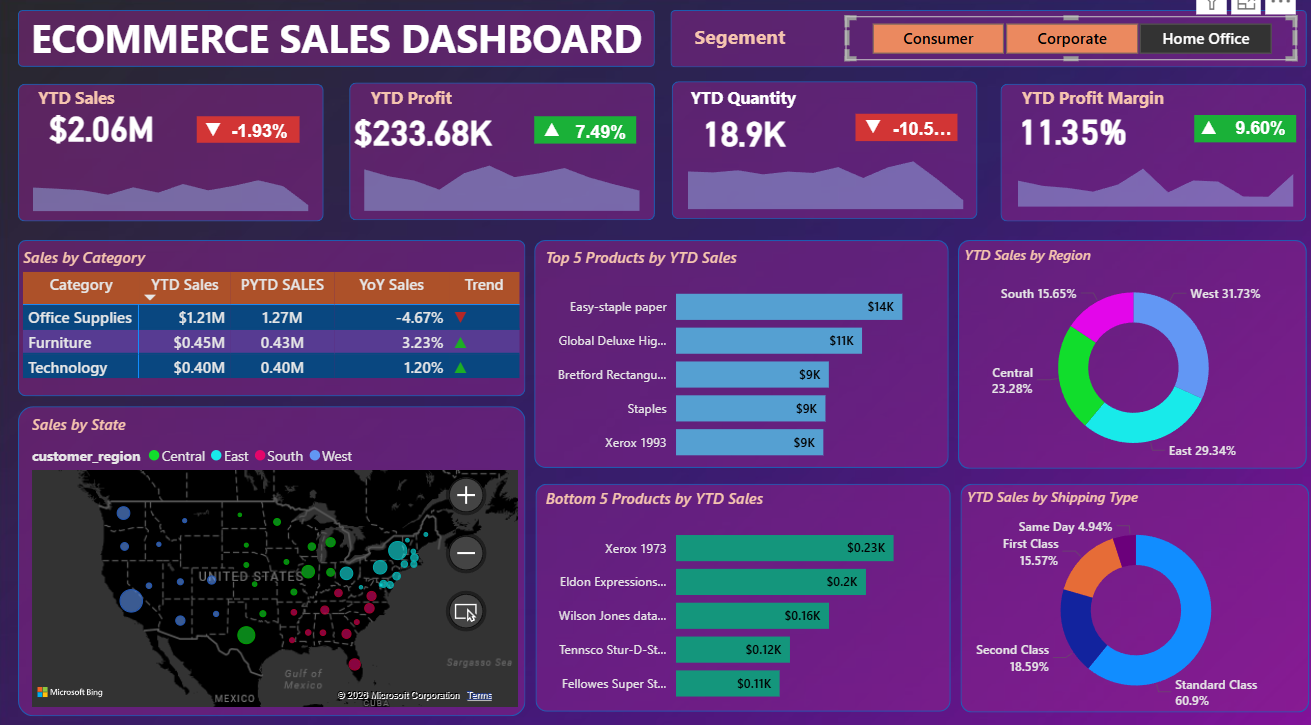

This screenshot's page, from the dashboard's own definition file:
{"tool":"powerbi","page":{"name":"Page 1","canvas":[1280,720],"ordinal":0},"visuals":[{"type":"shape","box":[24.7,19.2,614.8,54.9],"z":0},{"type":"textbox","box":[24.7,15.1,614.8,64.5],"z":1000},{"type":"shape","box":[24.7,90.6,295,133],"z":2000},{"type":"card","fields":{"Values":["ecommerce_data.YTD SALES"]},"box":[35.7,105.7,137.2,52.1],"z":3000},{"type":"areaChart","fields":{"Category":["Calendar.Month"],"Y":["Sum(ecommerce_data.sales_per_order)"]},"box":[24.7,156.4,295,61.7],"z":4000},{"type":"shape","box":[196.6,121.9,98.9,25.3],"z":5000},{"type":"card","fields":{"Values":["ecommerce_data.YoY Sales"]},"box":[223.7,120.8,68.6,32.9],"z":6000},{"type":"card","fields":{"Values":["ecommerce_data.Sales Icon"]},"box":[194.9,122.1,34.3,26.1],"z":7000},{"type":"textbox","box":[38.4,87.8,105.7,38.4],"z":8000},{"type":"shape","box":[344.4,89.2,295,133.1],"z":9000},{"type":"shape","box":[522.8,122.1,98.8,26.1],"z":10000},{"type":"card","fields":{"Values":["ecommerce_data.YTD PROFIT"]},"box":[331.8,109.8,166.5,51.9],"z":11000},{"type":"areaChart","fields":{"Category":["Calendar.Month"],"Y":["Sum(ecommerce_data.profit_per_order)"]},"box":[344.4,148.2,295,70],"z":12000},{"type":"card","fields":{"Values":["ecommerce_data.YoY Profit"]},"box":[553,122.1,68.6,32.9],"z":13000},{"type":"card","fields":{"Values":["ecommerce_data.Profit Icon"]},"box":[522.8,122.1,34.3,26.1],"z":14000},{"type":"shape","box":[654.5,87.8,295,133.1],"z":15000},{"type":"textbox","box":[359.5,87.8,105.7,38.4],"z":16000},{"type":"shape","box":[832.9,119.4,98.8,26.1],"z":17000},{"type":"card","fields":{"Values":["ecommerce_data.YTD Qty"]},"box":[657.3,111.1,134.5,52.1],"z":18000},{"type":"areaChart","fields":{"Category":["Calendar.Month"],"Y":["Sum(ecommerce_data.order_quantity)"]},"box":[655.9,150.9,295,65.9],"z":19000},{"type":"card","fields":{"Values":["ecommerce_data.YoY Qty"]},"box":[863.1,119.4,68.6,32.9],"z":20000},{"type":"card","fields":{"Values":["ecommerce_data.Qty Icon"]},"box":[832.9,119.4,34.3,28.8],"z":21000},{"type":"textbox","box":[668.3,87.8,155.1,38.4],"z":22000},{"type":"shape","box":[972.9,90.6,295,133.1],"z":23000},{"type":"shape","box":[1159.5,120.8,98.8,26.1],"z":24000},{"type":"card","fields":{"Values":["ecommerce_data.YTD Profit Margin"]},"box":[974.3,108.4,134.5,52.1],"z":25000},{"type":"areaChart","fields":{"Category":["Calendar.Month"],"Y":["ecommerce_data.Profit Margin"]},"box":[974.3,148.2,295,65.9],"z":26000},{"type":"card","fields":{"Values":["ecommerce_data.YoY Profit Margin"]},"box":[1189.8,118.3,68.2,33.4],"z":27000},{"type":"card","fields":{"Values":["ecommerce_data.Profit Margin Icon"]},"box":[1156.4,119.7,33.4,29.2],"z":28000},{"type":"textbox","box":[988,87.8,155.1,38.4],"z":29000},{"type":"shape","box":[24.1,241.3,489.8,150.8],"z":30000},{"type":"pivotTable","title":"Sales by Category","fields":{"Rows":["ecommerce_data.category_name"],"Values":["ecommerce_data.YTD Sales","ecommerce_data.PYTD SALES","ecommerce_data.YoY Sales","ecommerce_data.Sales Icon"]},"box":[24.1,247.3,498.3,150.8],"z":31000},{"type":"shape","box":[24.7,402.1,489.9,299.1],"z":32000},{"type":"map","title":"Sales by State","fields":{"Y":["us_state_long_lat_codes.latitude"],"X":["us_state_long_lat_codes.longitude"],"Size":["ecommerce_data.YTD Sales"],"Series":["ecommerce_data.customer_region"]},"box":[32.6,409,479,288.3],"z":33000},{"type":"shape","box":[522.8,241.5,400,220],"z":34000},{"type":"shape","box":[524.2,476.2,400.7,220],"z":35000},{"type":"barChart","title":"Top 5 Products by YTD Sales","fields":{"Category":["ecommerce_data.product_name"],"Y":["ecommerce_data.YTD Sales"]},"box":[528.3,247,393.8,220.9],"z":36000},{"type":"barChart","title":"Bottom 5 Products by YTD Sales","fields":{"Category":["ecommerce_data.product_name"],"Y":["ecommerce_data.YTD Sales"]},"box":[528.3,480.3,393.8,220.9],"z":37000},{"type":"shape","box":[931.4,241.3,336.6,220.8],"z":38000},{"type":"shape","box":[933.8,476.5,336.6,220.8],"z":39000},{"type":"donutChart","title":"YTD Sales by Region","fields":{"Category":["ecommerce_data.customer_region"],"Y":["ecommerce_data.YTD Sales"]},"box":[932.6,246.1,336.6,219.6],"z":40000},{"type":"donutChart","title":"YTD Sales by Shipping Type","fields":{"Y":["ecommerce_data.YTD Sales"],"Category":["ecommerce_data.shipping_type"]},"box":[935,480.2,336.6,219.6],"z":41000},{"type":"shape","box":[653.9,19.3,614.1,55.5],"z":42000},{"type":"slicer","fields":{"Values":["ecommerce_data.customer_segment"]},"box":[822.8,25.3,435.5,42.2],"z":43000},{"type":"textbox","box":[672,27.7,106.2,38.6],"z":44000}]}

Visuals, with their boxes in screenshot pixels (x1, y1, x2, y2), scaled from the page's 1280x720 canvas onto the 1311x725 screenshot:
shape: 25, 19, 655, 75
textbox: 25, 15, 655, 80
shape: 25, 91, 327, 225
card - ecommerce_data.YTD SALES: 37, 106, 177, 159
areaChart - Calendar.Month x Sum(ecommerce_data.sales_per_order): 25, 157, 327, 220
shape: 201, 123, 303, 148
card - ecommerce_data.YoY Sales: 229, 122, 299, 155
card - ecommerce_data.Sales Icon: 200, 123, 235, 149
textbox: 39, 88, 148, 127
shape: 353, 90, 655, 224
shape: 535, 123, 637, 149
card - ecommerce_data.YTD PROFIT: 340, 111, 510, 163
areaChart - Calendar.Month x Sum(ecommerce_data.profit_per_order): 353, 149, 655, 220
card - ecommerce_data.YoY Profit: 566, 123, 637, 156
card - ecommerce_data.Profit Icon: 535, 123, 571, 149
shape: 670, 88, 972, 222
textbox: 368, 88, 476, 127
shape: 853, 120, 954, 147
card - ecommerce_data.YTD Qty: 673, 112, 811, 164
areaChart - Calendar.Month x Sum(ecommerce_data.order_quantity): 672, 152, 974, 218
card - ecommerce_data.YoY Qty: 884, 120, 954, 153
card - ecommerce_data.Qty Icon: 853, 120, 888, 149
textbox: 684, 88, 843, 127
shape: 996, 91, 1299, 225
shape: 1188, 122, 1289, 148
card - ecommerce_data.YTD Profit Margin: 998, 109, 1136, 162
areaChart - Calendar.Month x ecommerce_data.Profit Margin: 998, 149, 1300, 216
card - ecommerce_data.YoY Profit Margin: 1219, 119, 1288, 153
card - ecommerce_data.Profit Margin Icon: 1184, 121, 1219, 150
textbox: 1012, 88, 1171, 127
shape: 25, 243, 526, 395
"Sales by Category" pivotTable: 25, 249, 535, 401
shape: 25, 405, 527, 706
"Sales by State" map: 33, 412, 524, 702
shape: 535, 243, 945, 465
shape: 537, 480, 947, 701
"Top 5 Products by YTD Sales" barChart: 541, 249, 944, 471
"Bottom 5 Products by YTD Sales" barChart: 541, 484, 944, 706
shape: 954, 243, 1299, 465
shape: 956, 480, 1301, 702
"YTD Sales by Region" donutChart: 955, 248, 1300, 469
"YTD Sales by Shipping Type" donutChart: 958, 484, 1302, 705
shape: 670, 19, 1299, 75
slicer - ecommerce_data.customer_segment: 843, 25, 1289, 68
textbox: 688, 28, 797, 67
